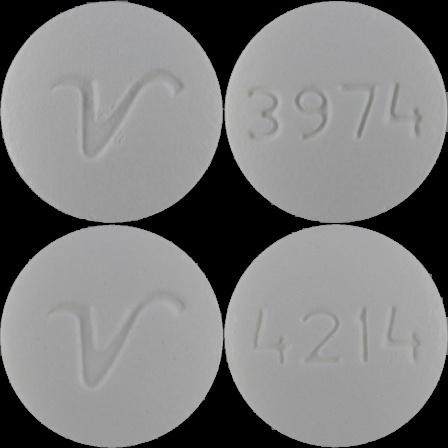0603-4213: (0, 0, 224, 224)
